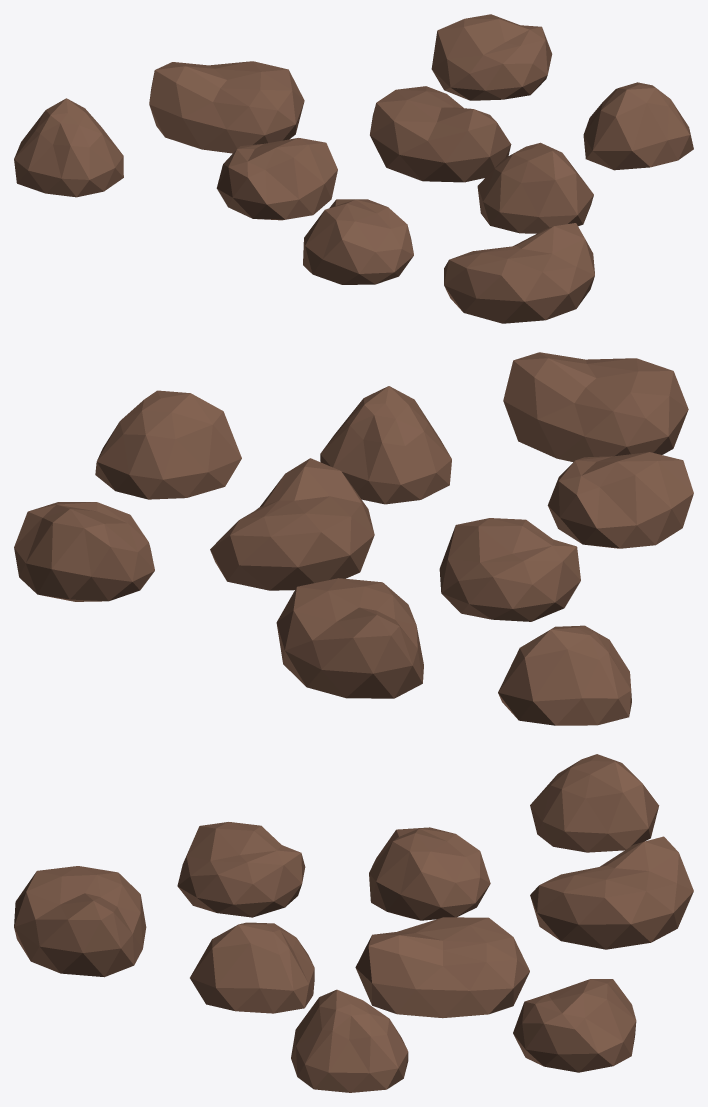
The model's file is Marsrock2.fbx.
3 views of the same model, one above another, from view 1: azimuth 30°, elevation 25°; view 2: azimuth 150°, elevation 25°; view 3: azimuth 270°, elevation 25° (orthographic). The views are drawn at different scales.
Visible parts, largest first — view 1: Rocks; view 2: Rocks; view 3: Rocks.
Boxes of the visible parts, <box> form: Rocks: <box>14,14,693,323</box>; Rocks: <box>14,352,693,725</box>; Rocks: <box>14,754,693,1092</box>.
Size of the model in its own units: 223 by 29.82 by 222.
